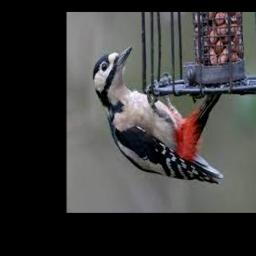Woodpecker: (92, 46, 223, 184)
